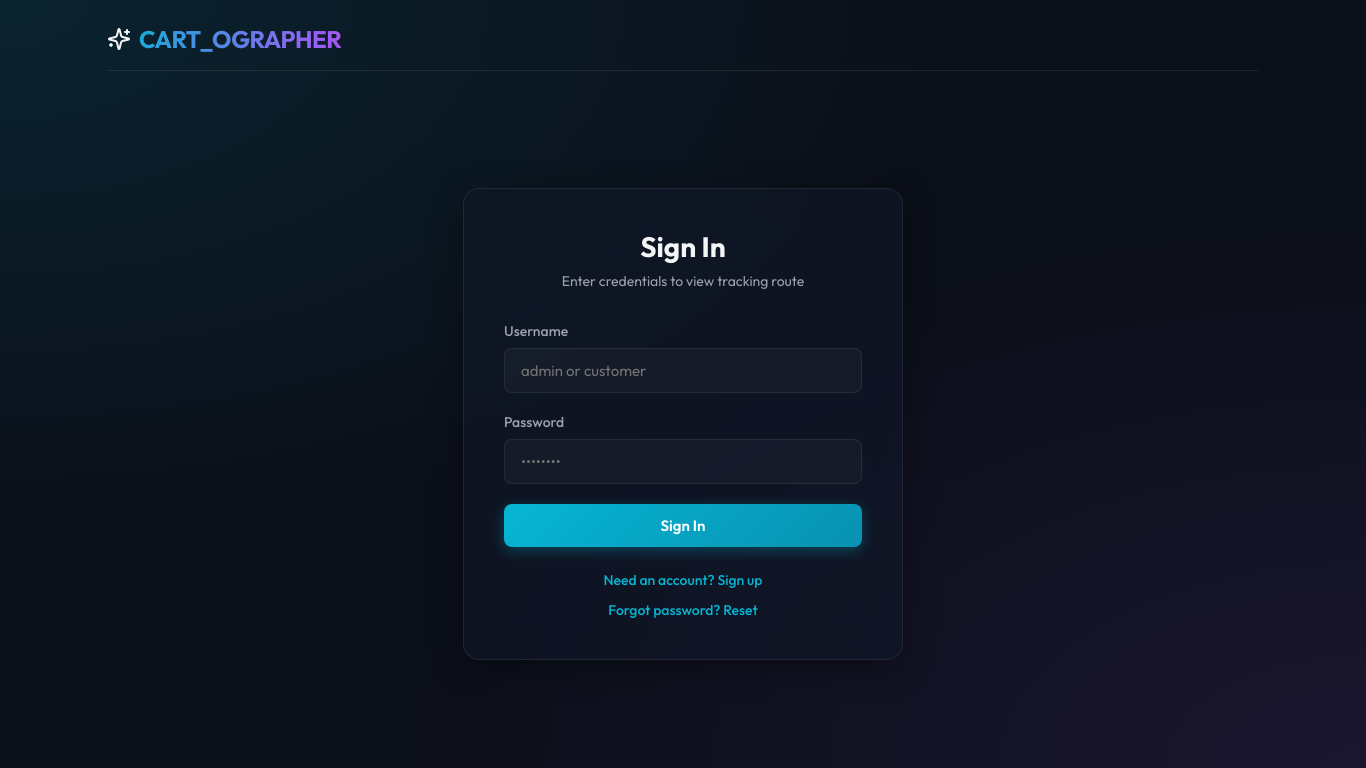
Web UI - App Component › switches to Sign Up view upon link click
The width and height of the screenshot is (1366, 768).
Click the link "Need an account? Sign up": (683, 580) [604,570,762,588]
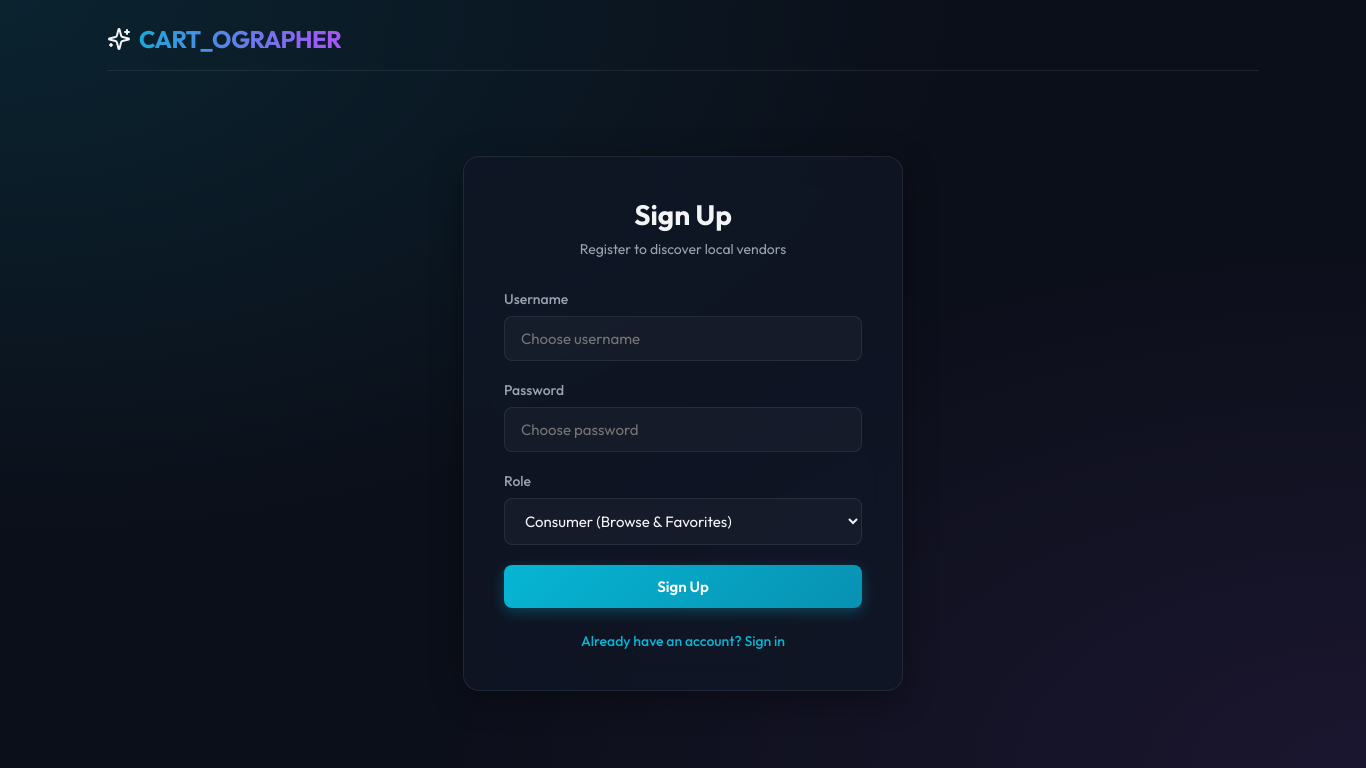
Expected: the heading "Sign Up" is shown, [634,197,732,232]
